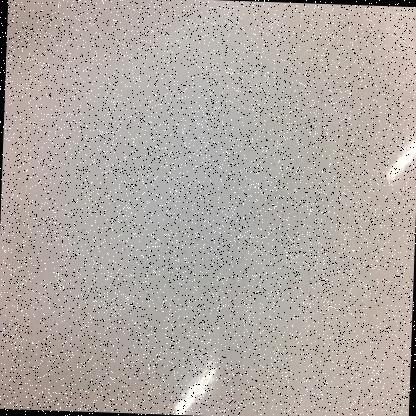Nocrack: (3, 7, 408, 400)
